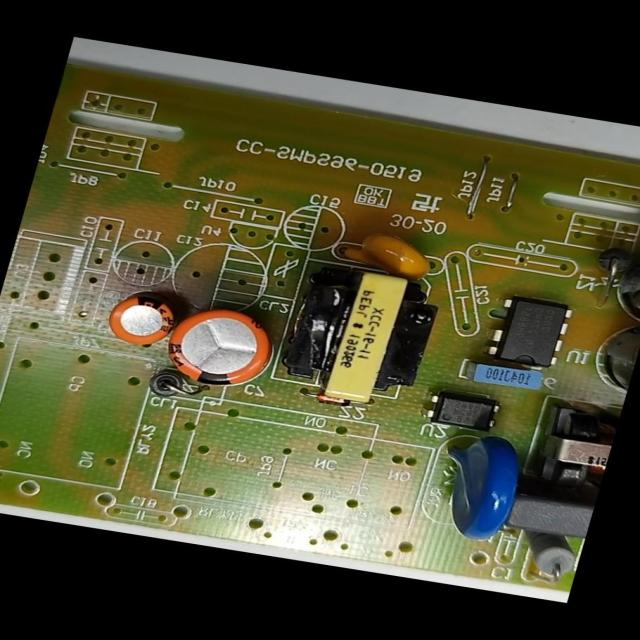Cap1: (152, 298, 283, 396)
Cap2: (94, 285, 184, 354)
Cap3: (588, 314, 639, 409)
Cap4: (597, 227, 639, 327)
MOSFET: (480, 290, 580, 374)
Mov: (414, 425, 528, 546)
Resistor: (512, 524, 586, 584)
Transformer: (268, 253, 456, 416), (522, 398, 621, 494)
